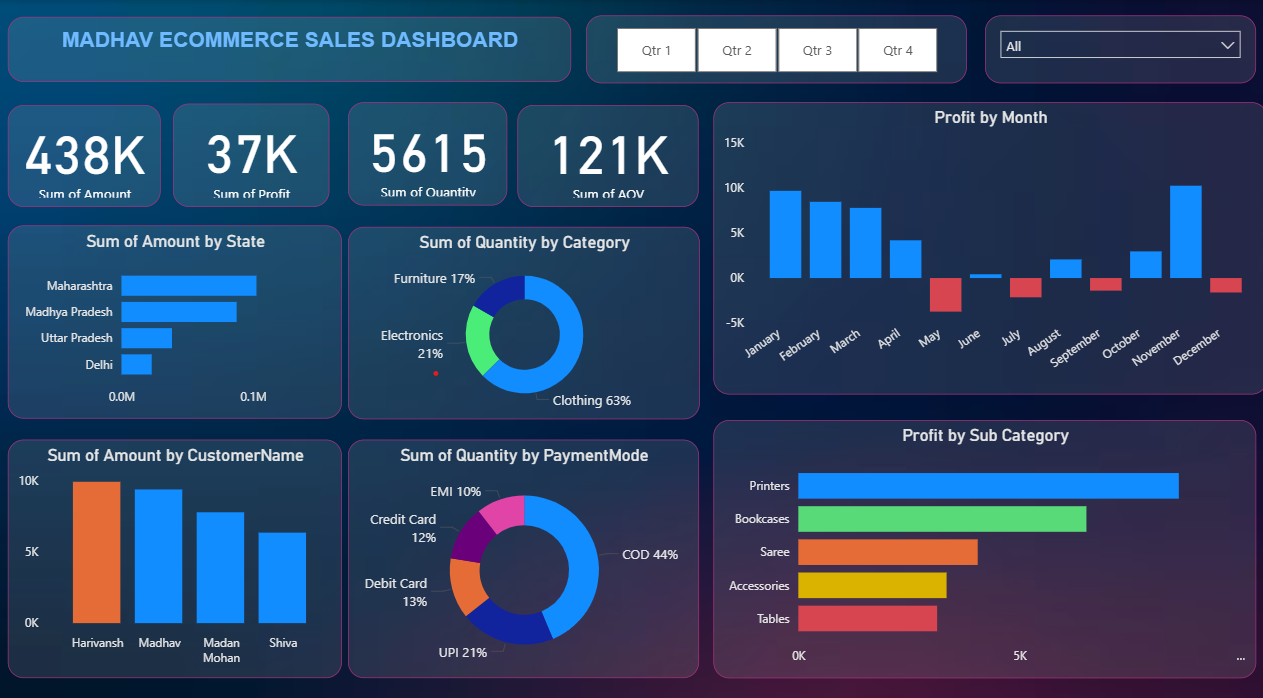

Layout of this report page (visuals, bound fields, positions):
{"tool":"powerbi","page":{"name":"Page 1","canvas":[1280,720],"ordinal":0},"visuals":[{"type":"textbox","box":[9.4,17.2,568.5,65.6],"z":0},{"type":"columnChart","title":"Profit by Month","fields":{"Y":["Details.Profit"],"Category":["Orders.Order Date.Variation.Date Hierarchy.Month"]},"box":[721.6,103.1,559.1,295.2],"z":1000},{"type":"barChart","title":"Profit by Sub Category","fields":{"Category":["Details.Sub-Category"],"Y":["Details.Profit"]},"box":[721.6,423.3,548.2,260.8],"z":2000},{"type":"donutChart","fields":{"Category":["Details.Category"],"Y":["Details.Quantity"]},"box":[353,228.4,354.9,194.5],"z":3000},{"type":"donutChart","fields":{"Y":["Details.Quantity"],"Category":["Details.PaymentMode"]},"box":[353,443.6,354.5,240.5],"z":4000},{"type":"card","fields":{"Values":["Details.Amount"]},"box":[9.4,106.2,154.6,103.1],"z":5000},{"type":"card","fields":{"Values":["Details.Quantity"]},"box":[353,103.1,160.9,104.6],"z":6000},{"type":"card","fields":{"Values":["Details.Profit"]},"box":[176.5,104.6,157.7,104.6],"z":7000},{"type":"card","fields":{"Values":["Details.AOV"]},"box":[524.8,106.2,182.7,103.1],"z":8000},{"type":"barChart","fields":{"Category":["Orders.State"],"Y":["Details.Amount"]},"box":[9.4,228,337.4,195.2],"z":9000},{"type":"columnChart","fields":{"Category":["Orders.CustomerName"],"Y":["Details.Amount"]},"box":[9.4,443.6,337.4,240.5],"z":10000},{"type":"slicer","fields":{"Values":["Orders.Order Date.Variation.Date Hierarchy.Quarter"]},"box":[593.5,15.6,384.2,68.7],"z":11000},{"type":"slicer","fields":{"Values":["Orders.State"]},"box":[996.4,15.6,273.3,68.7],"z":12000}]}

Visuals, with their boxes in screenshot pixels (x1, y1, x2, y2), scaled from the page's 1280x720 canvas onto the 1263x698 screenshot:
textbox: box(9, 17, 570, 80)
"Profit by Month" columnChart: box(712, 100, 1262, 386)
"Profit by Sub Category" barChart: box(712, 410, 1253, 663)
donutChart - Details.Category x Details.Quantity: box(348, 221, 698, 410)
donutChart - Details.Quantity x Details.PaymentMode: box(348, 430, 698, 663)
card - Details.Amount: box(9, 103, 162, 203)
card - Details.Quantity: box(348, 100, 507, 201)
card - Details.Profit: box(174, 101, 330, 203)
card - Details.AOV: box(518, 103, 698, 203)
barChart - Orders.State x Details.Amount: box(9, 221, 342, 410)
columnChart - Orders.CustomerName x Details.Amount: box(9, 430, 342, 663)
slicer - Orders.Order Date.Variation.Date Hierarchy.Quarter: box(586, 15, 965, 82)
slicer - Orders.State: box(983, 15, 1253, 82)
